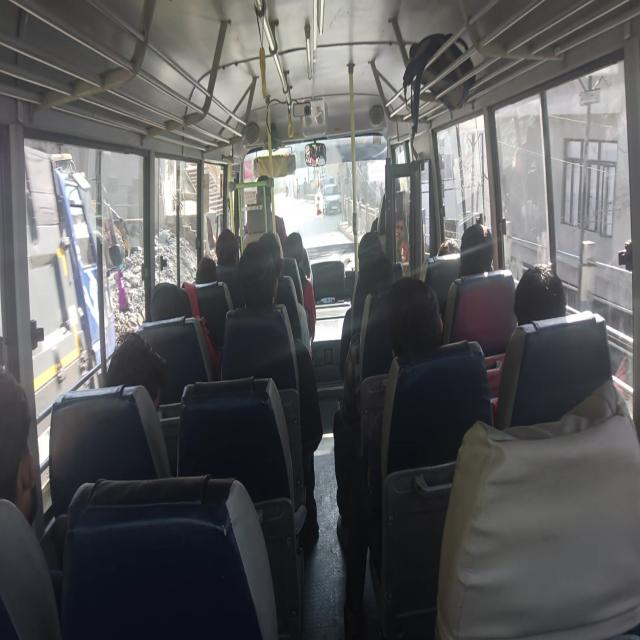person: (96, 326, 170, 424), (1, 357, 41, 532), (393, 271, 447, 379), (510, 255, 569, 324), (241, 250, 281, 320), (150, 277, 197, 328), (460, 212, 495, 275), (362, 250, 395, 308), (212, 227, 246, 273), (195, 253, 225, 295), (350, 227, 391, 254), (259, 233, 288, 266), (428, 235, 465, 258), (251, 172, 277, 204), (286, 233, 309, 262), (381, 174, 407, 199)
